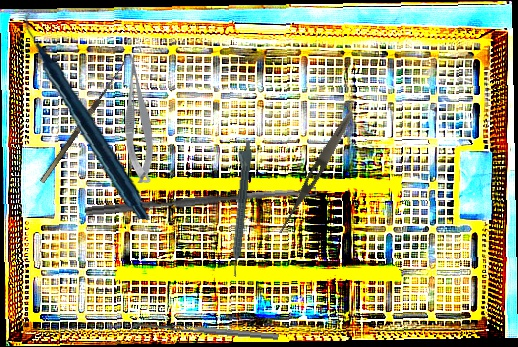Dressing Forceps: (275, 109, 357, 237)
Handpiece: (7, 13, 168, 220), (224, 140, 254, 277)
Hook Surgical: (33, 56, 128, 184)
Micro Scissor: (124, 54, 154, 183)
Spatula Surgical: (129, 321, 279, 346)
Surgical Spoon: (85, 186, 317, 218)
